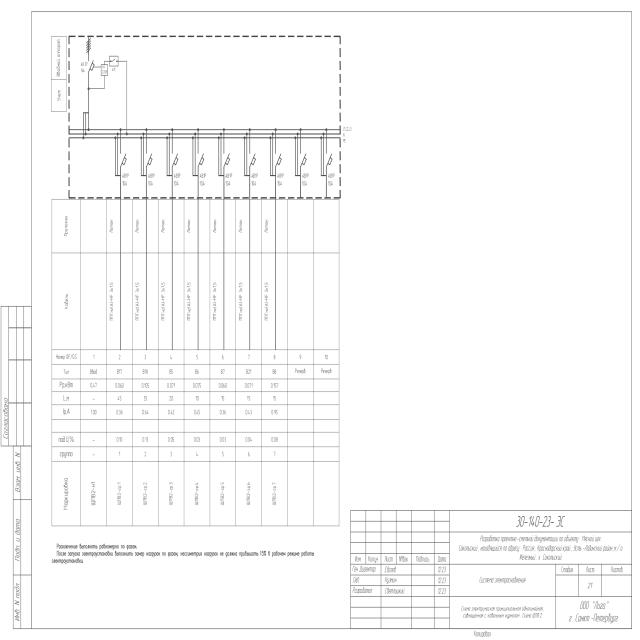-: (199, 172, 208, 186), (327, 172, 336, 186), (276, 173, 285, 187), (301, 172, 310, 186), (121, 172, 130, 186), (251, 172, 260, 186), (172, 173, 181, 187), (147, 173, 156, 187), (225, 172, 233, 186), (80, 60, 88, 74)
ITU: (100, 64, 108, 76)
QF: (197, 150, 205, 168), (145, 151, 153, 169), (274, 151, 282, 169), (325, 151, 333, 168), (119, 152, 127, 169), (171, 151, 179, 168), (300, 151, 307, 169), (249, 151, 256, 168), (223, 151, 230, 168), (88, 60, 94, 74)
